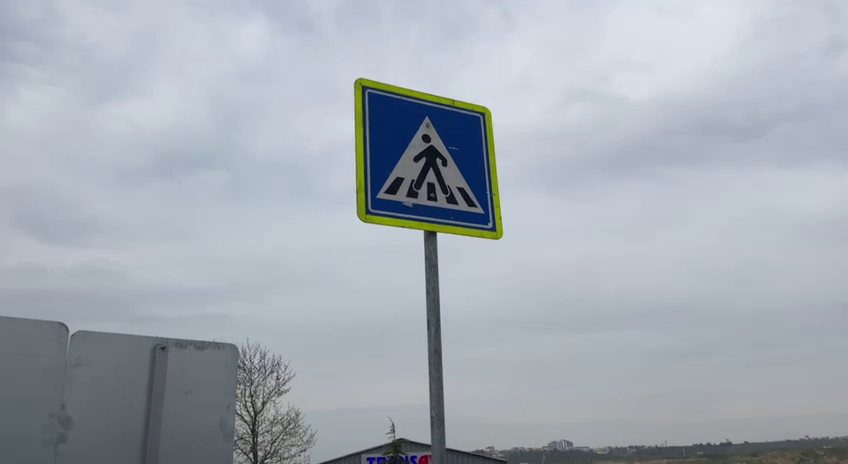pedestrianCrossing: (350, 71, 506, 242)
